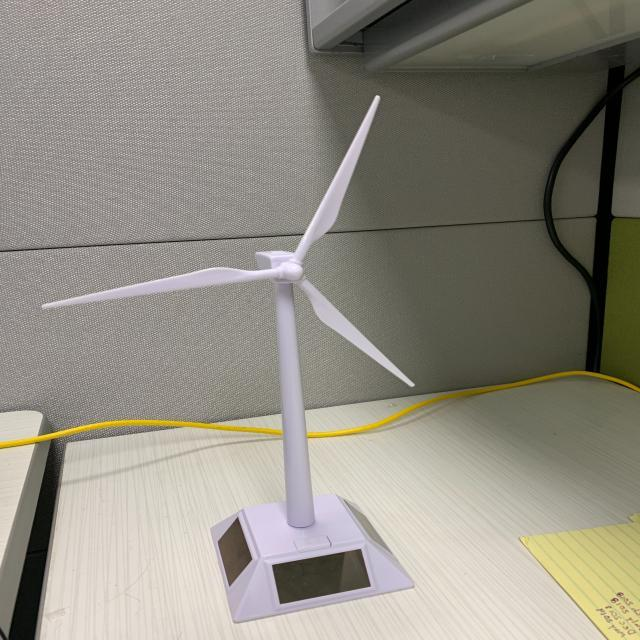solid-blade: (295, 95, 378, 262), (298, 278, 414, 386), (42, 268, 279, 309)
